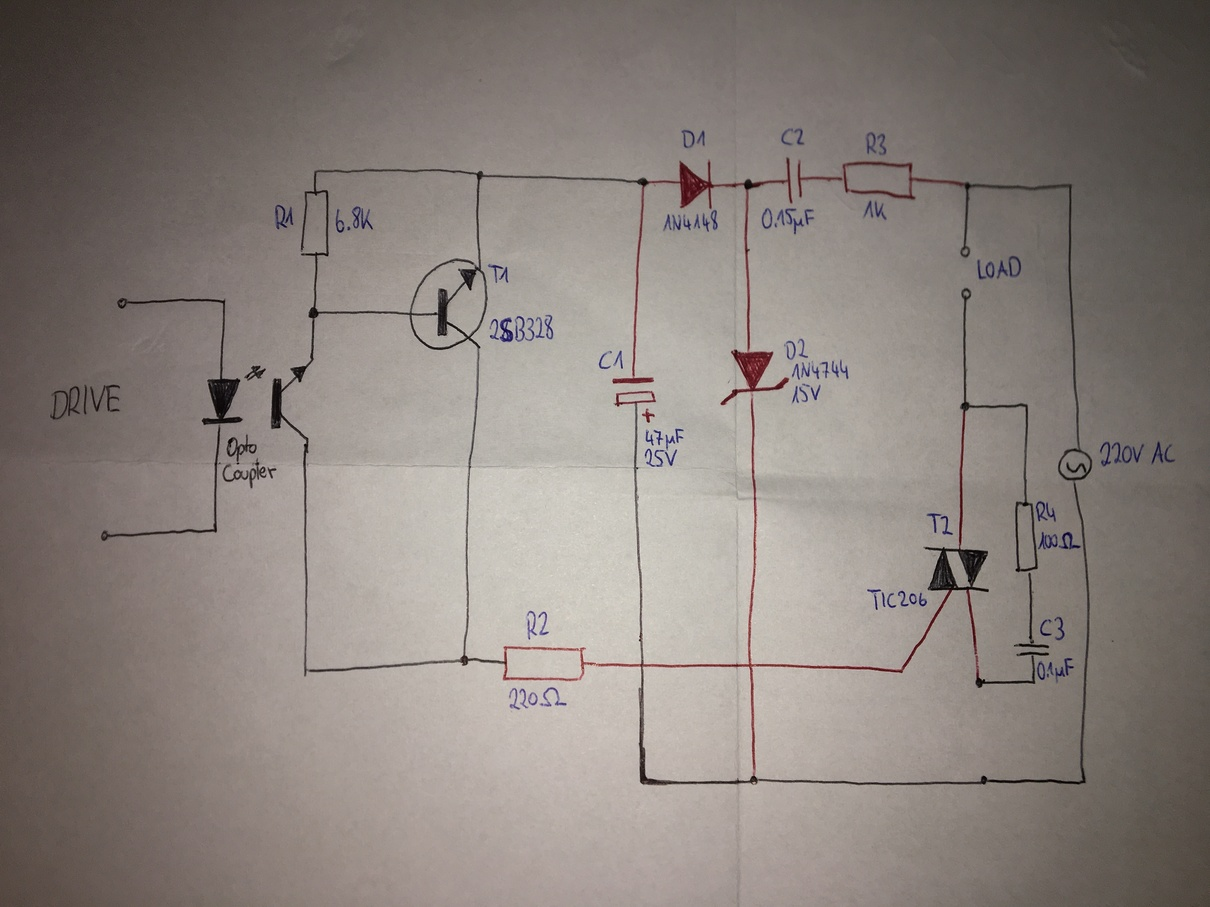capacitor.polarized: (610, 374, 658, 425)
capacitor.unpolarized: (782, 154, 807, 205), (1011, 639, 1051, 660)
crossover: (745, 659, 758, 672), (638, 660, 648, 671)
diode: (718, 346, 791, 408), (677, 157, 715, 211)
junction: (307, 305, 321, 320), (636, 175, 650, 189), (458, 654, 471, 668), (742, 178, 755, 192), (474, 168, 486, 183), (637, 776, 650, 789), (959, 400, 972, 413), (974, 676, 986, 690), (748, 774, 760, 787), (301, 666, 313, 678), (1079, 776, 1090, 787), (1022, 400, 1033, 411), (210, 525, 221, 535), (963, 180, 972, 192), (311, 167, 320, 177), (1066, 181, 1075, 190), (1029, 677, 1038, 686), (220, 297, 228, 306), (898, 666, 905, 675)
optocoupler: (200, 358, 315, 441)
resistor: (501, 643, 587, 683), (838, 159, 918, 202), (298, 187, 332, 259), (1013, 499, 1041, 575)
terminal: (115, 296, 133, 311), (959, 286, 974, 302), (958, 244, 973, 259), (99, 528, 113, 542)
text: (47, 382, 122, 421), (1098, 439, 1178, 466), (487, 313, 556, 343), (221, 459, 277, 489), (865, 586, 928, 612), (760, 206, 816, 235), (507, 686, 569, 711), (661, 209, 721, 233), (790, 358, 850, 381), (975, 254, 1023, 281), (334, 204, 374, 234), (1035, 657, 1076, 686), (225, 432, 258, 465), (1037, 530, 1082, 551), (524, 609, 551, 641), (644, 427, 685, 448), (1038, 615, 1069, 642), (642, 447, 679, 469), (925, 510, 955, 537), (790, 382, 822, 405), (864, 129, 888, 157), (273, 203, 296, 231), (485, 262, 513, 285), (598, 349, 625, 372), (860, 199, 888, 221), (783, 337, 809, 360), (680, 128, 708, 149), (1034, 500, 1058, 523), (779, 126, 805, 147)
transistor: (408, 257, 489, 351)
triac: (920, 542, 994, 601)
voltage.dc_ac: (1056, 447, 1094, 482)
